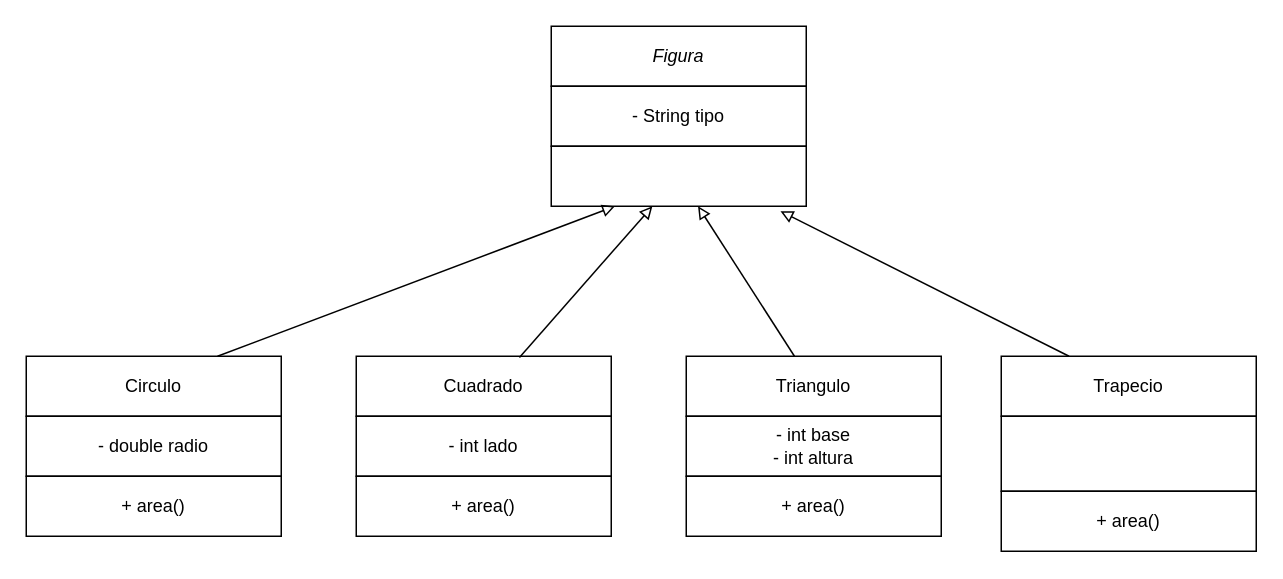
Some shapes in this 1283 by 579 pixel diagram are drawn without their labels. Here are the shapes that lost their labels. From the top down, the centre of each, then its label:
the point at 678,175: + area() + mostrarInfo ()
the point at 1128,453: - int baseMayor - int baseMenor - int altura
